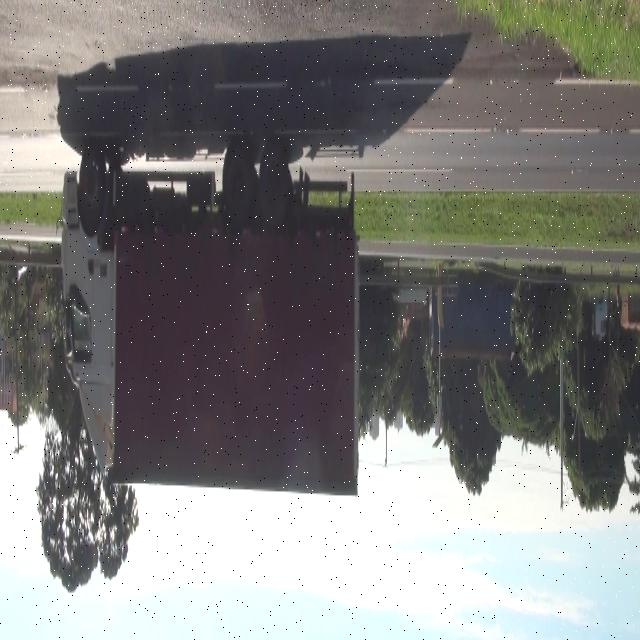-axle: (76, 140, 108, 233), (223, 144, 253, 227), (258, 140, 288, 221)
